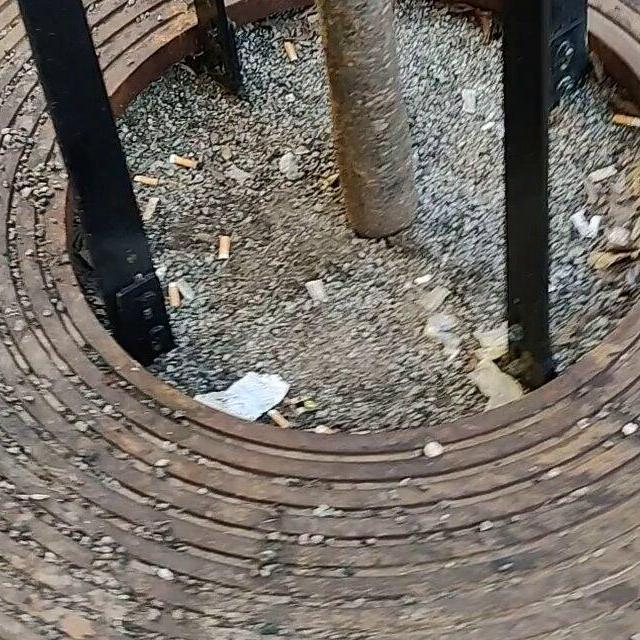Cigarette Butt: (166, 153, 200, 173), (218, 229, 232, 264), (616, 110, 640, 130), (268, 410, 289, 430), (589, 167, 614, 183), (169, 279, 184, 304), (133, 173, 161, 185), (286, 39, 297, 63)
